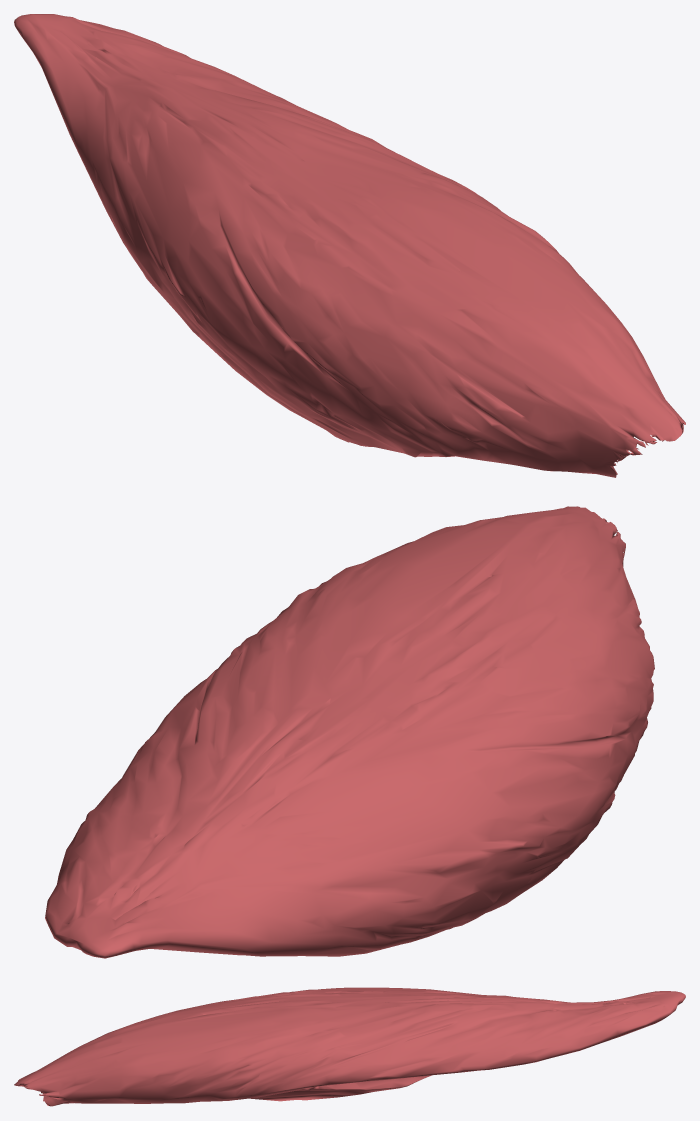
3 views of the same model, one above another, from view 1: azimuth 30°, elevation 25°; view 2: azimuth 150°, elevation 25°; view 3: azimuth 270°, elevation 25° (orthographic). The views are drawn at different scales.
Parts seen in each view (by area): view 1: 左侧比目鱼肌; view 2: 左侧比目鱼肌; view 3: 左侧比目鱼肌.
Boxes of the visible parts, box(x1,y1,x2,y2) form: 左侧比目鱼肌: box(14, 14, 685, 477); 左侧比目鱼肌: box(45, 506, 654, 958); 左侧比目鱼肌: box(14, 987, 685, 1106).
Bounding box in the file's own units: 0.1254 × 0.0814 × 0.4063.
